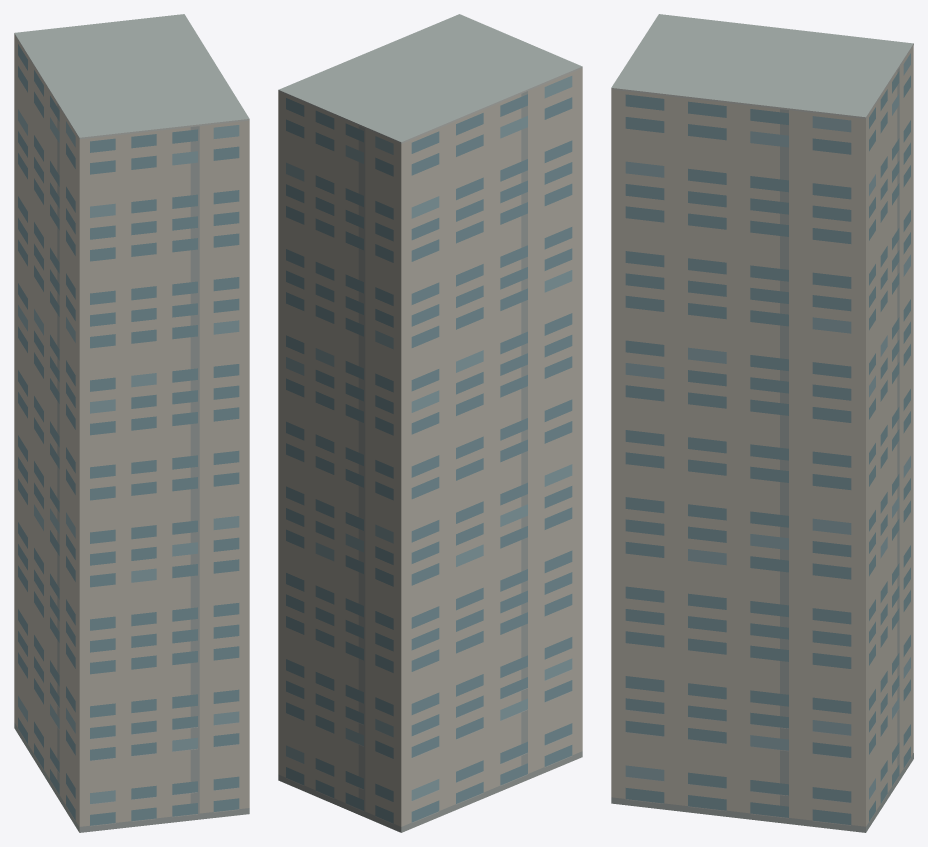
Rendered from residential-23fb5bff-573b-4e89-9cb2-c1bd325b959f.glb.
The picture shows the model from 3 angles, left to right: view 1: azimuth 30°, elevation 25°; view 2: azimuth 150°, elevation 25°; view 3: azimuth 270°, elevation 25°; orthographic projection. The views are drawn at different scales.
Parts seen in each view (by area): view 1: residential-23fb5bff-573b-4e89-9cb2-c1bd325b959f.tmp; view 2: residential-23fb5bff-573b-4e89-9cb2-c1bd325b959f.tmp; view 3: residential-23fb5bff-573b-4e89-9cb2-c1bd325b959f.tmp.
Part boxes in pixels (x1,y1,x2,y2): residential-23fb5bff-573b-4e89-9cb2-c1bd325b959f.tmp: [14, 14, 249, 832]; residential-23fb5bff-573b-4e89-9cb2-c1bd325b959f.tmp: [278, 14, 582, 832]; residential-23fb5bff-573b-4e89-9cb2-c1bd325b959f.tmp: [611, 14, 913, 832].
Bounding box in the file's own units: 30.95 × 100 × 38.33.
